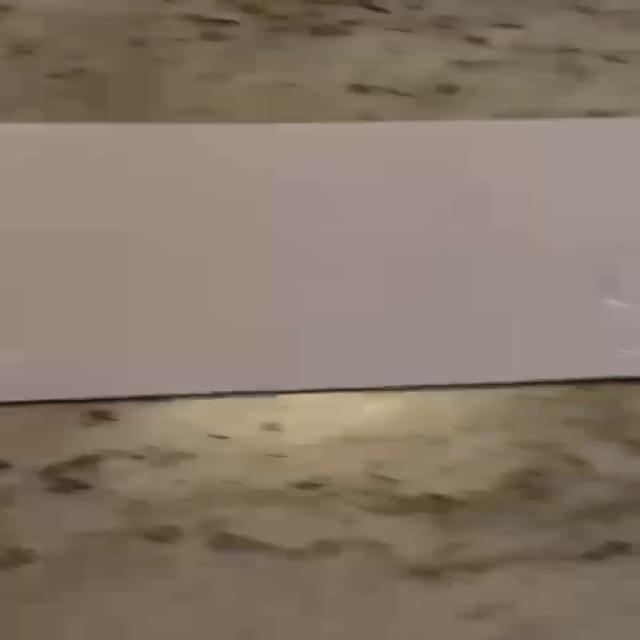road: (3, 118, 640, 402)
